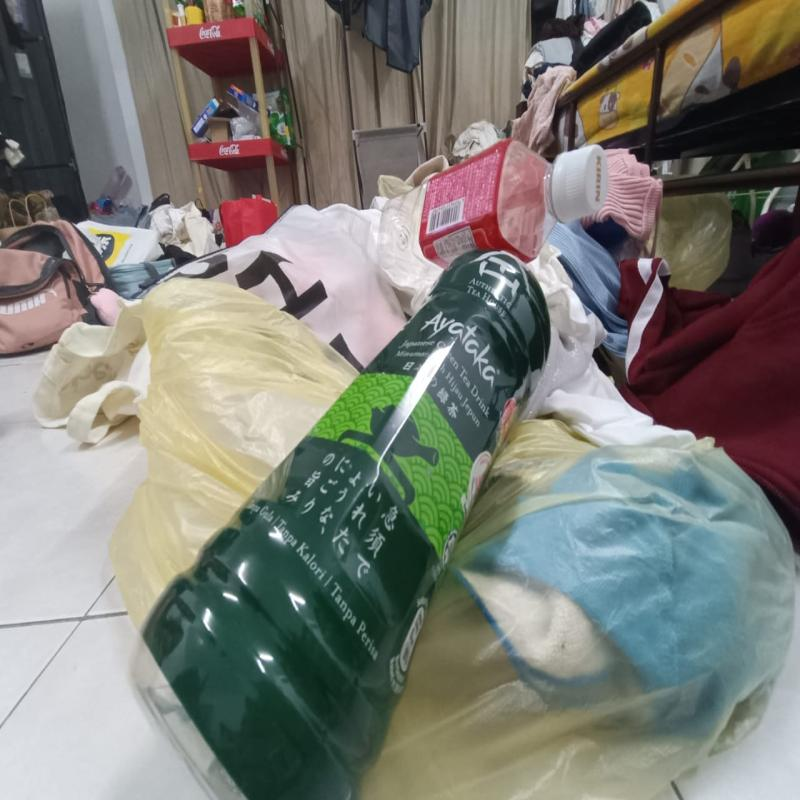botella: (128, 237, 551, 800), (376, 138, 610, 293)
